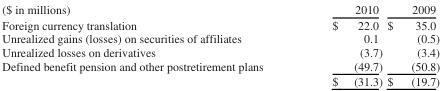table: (1, 0, 439, 88)
table column: (1, 0, 297, 88), (297, 0, 384, 88), (384, 0, 439, 88)
table column header: (1, 0, 439, 16)
table row: (1, 0, 439, 16), (1, 72, 439, 88), (1, 16, 439, 30), (1, 30, 439, 44), (1, 44, 439, 58), (1, 58, 439, 72)
